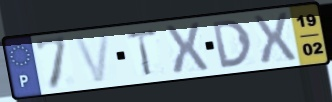7: (33, 35, 70, 92)
D: (210, 17, 255, 70)
T: (124, 27, 160, 79)
V: (71, 31, 113, 85)
X: (162, 21, 212, 77), (249, 11, 299, 67)
